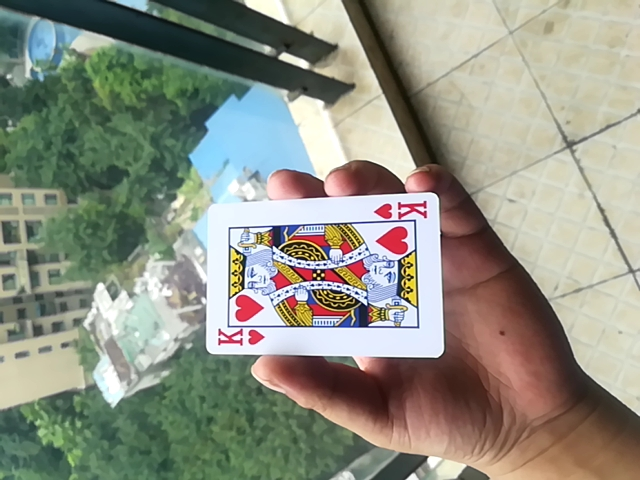hx k: (199, 191, 441, 361)
